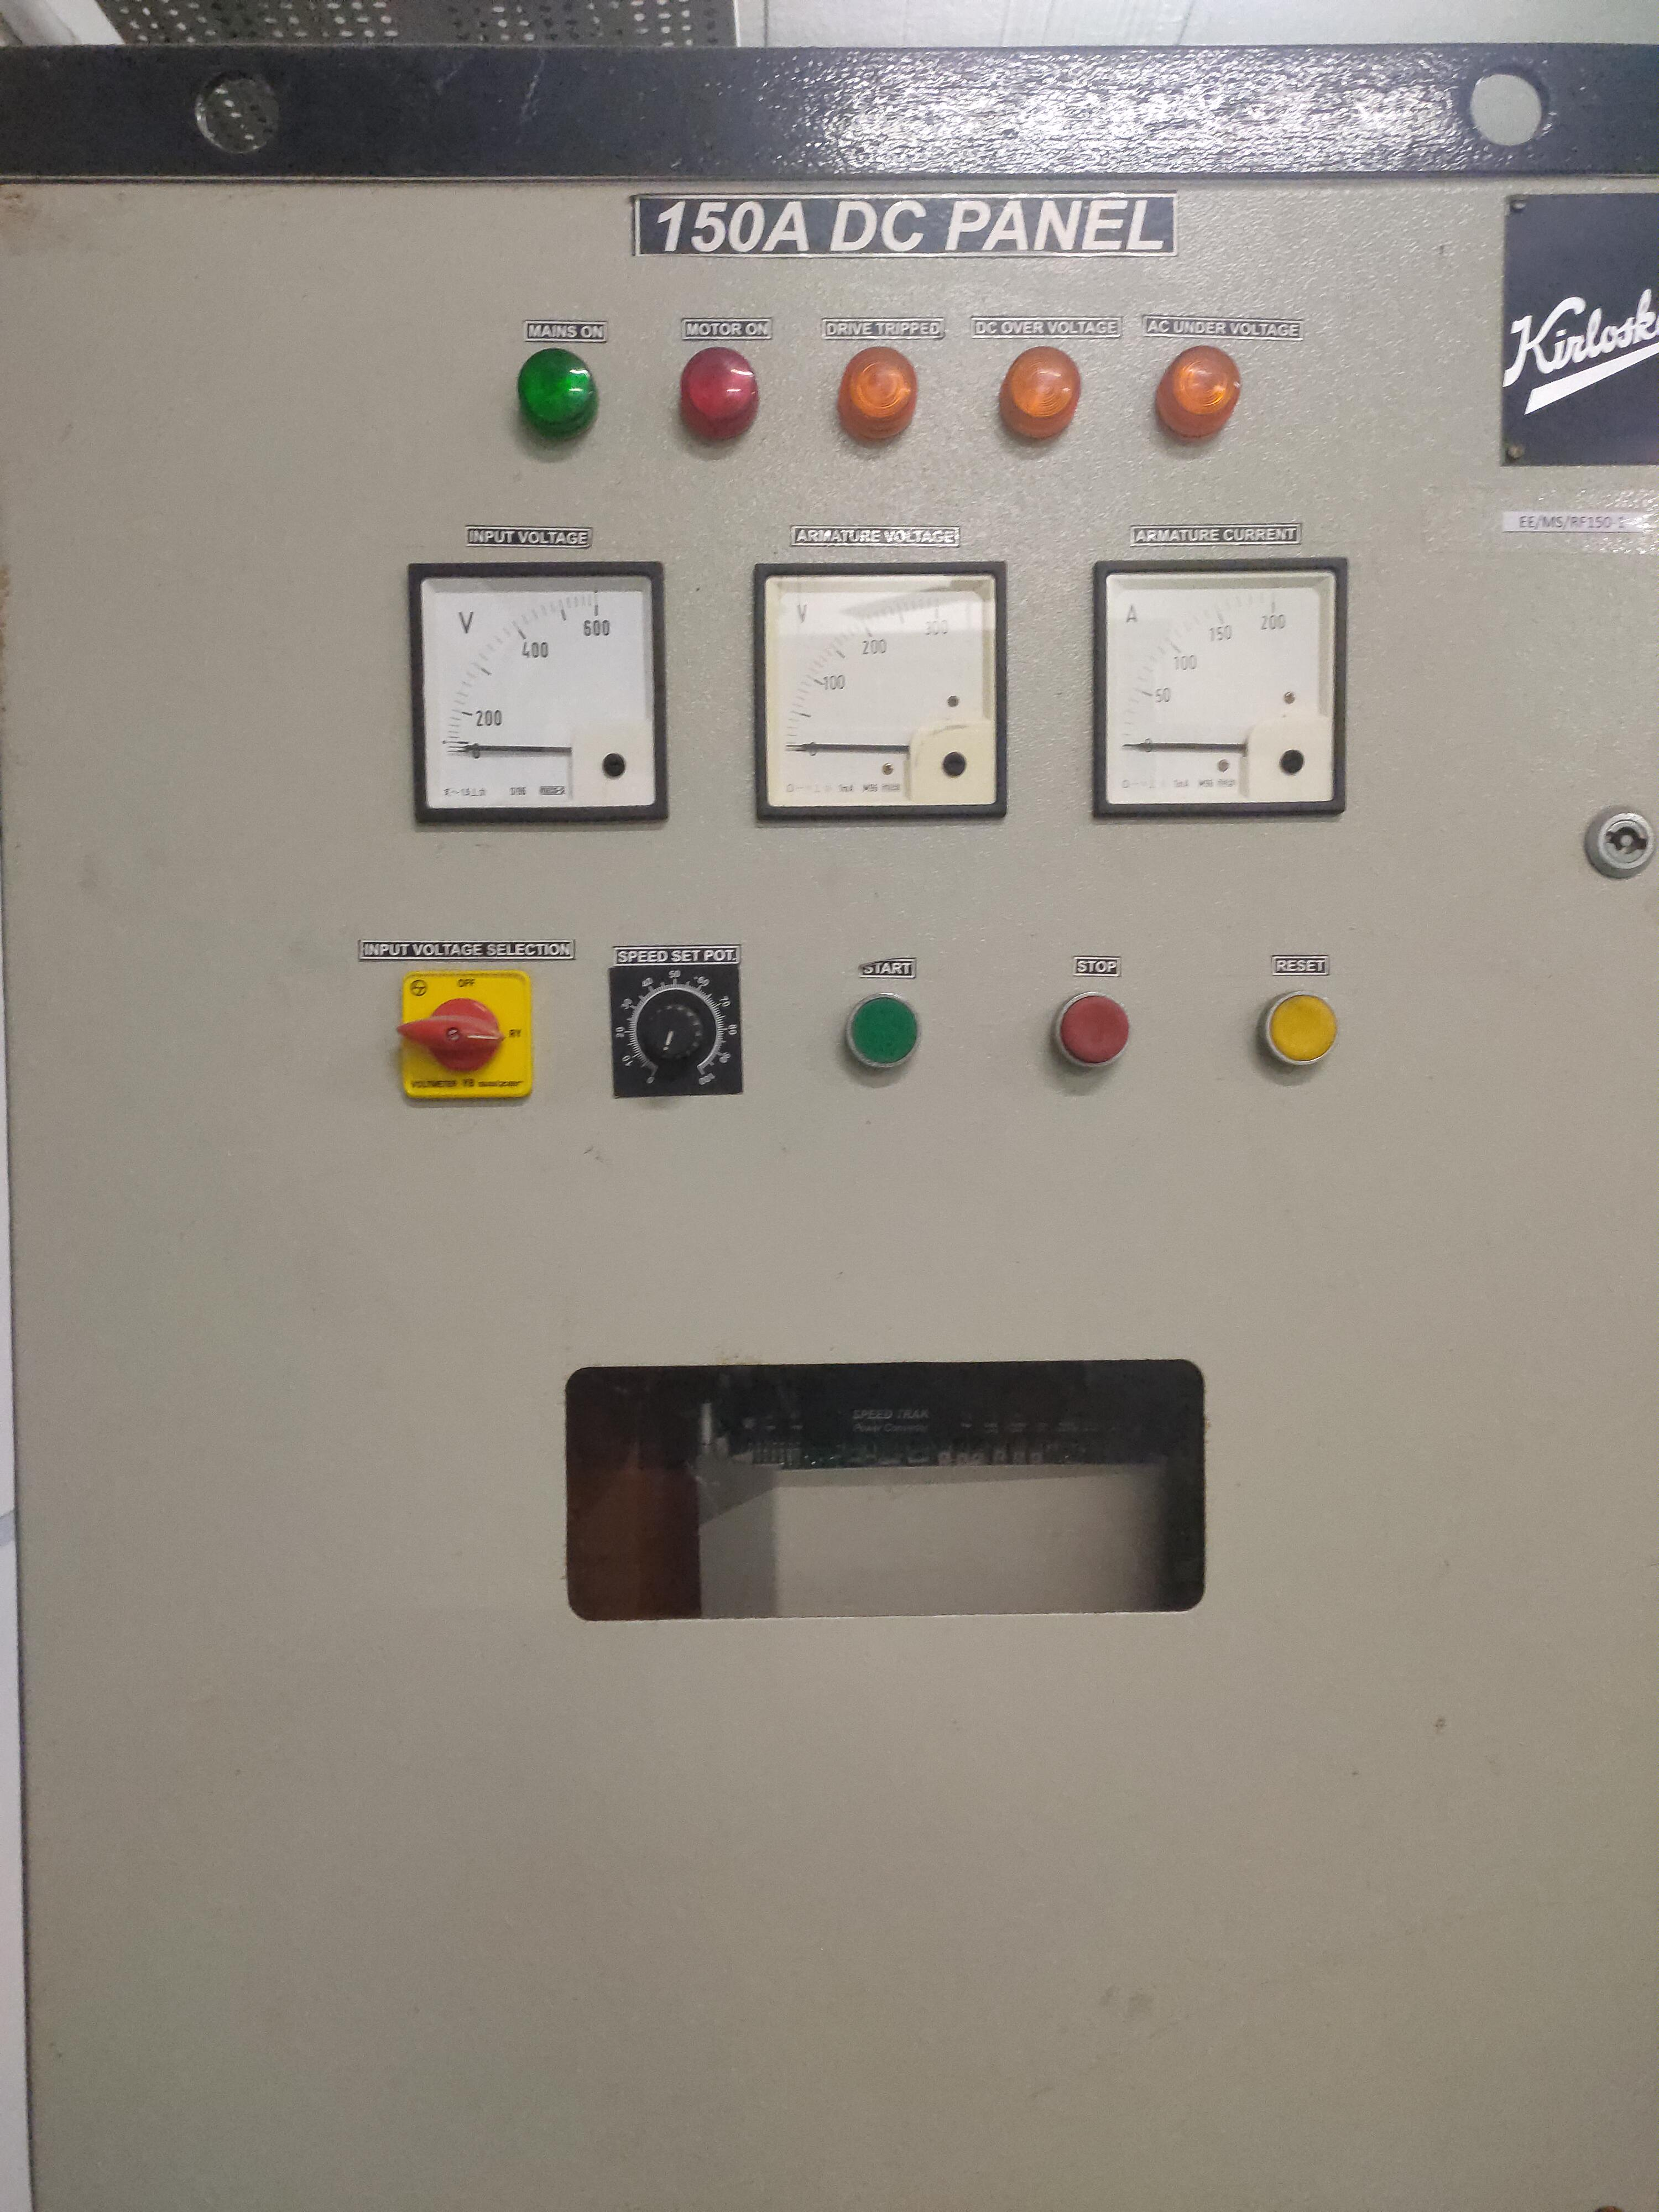Light Indications: (477, 300, 1270, 493)
